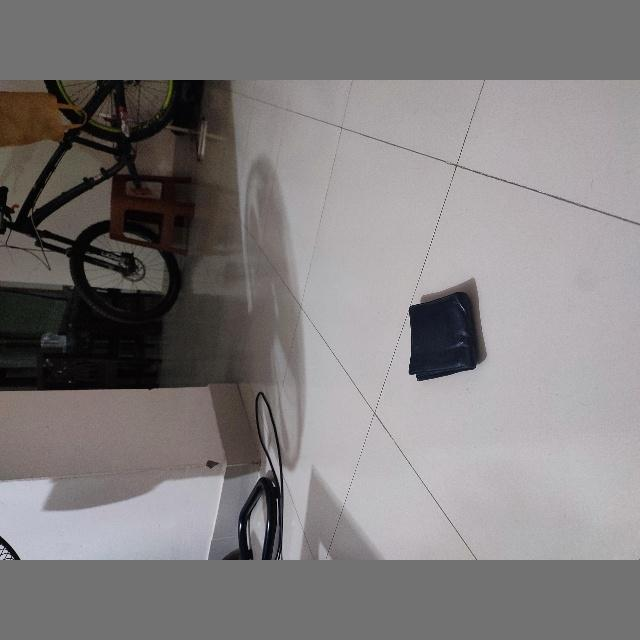Wallet: (408, 292, 478, 382)
